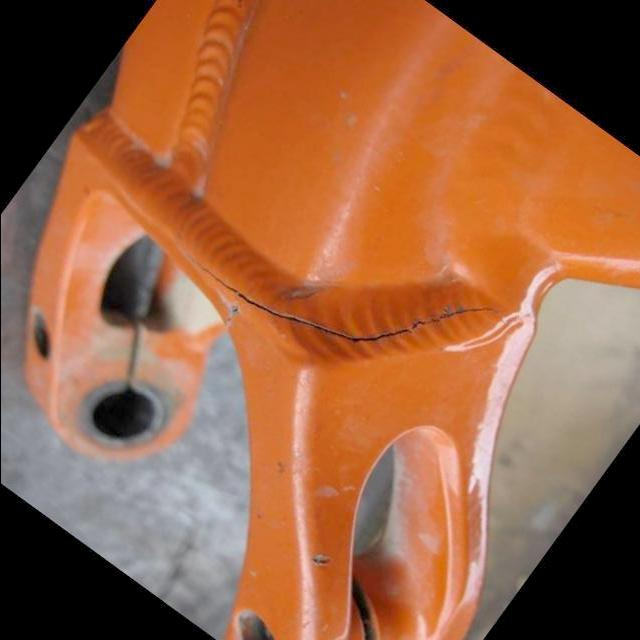defect: (173, 226, 516, 347)
